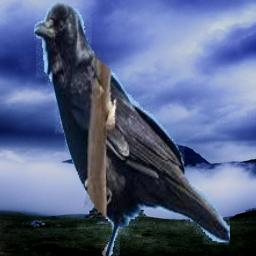Crow: (34, 0, 230, 256)
